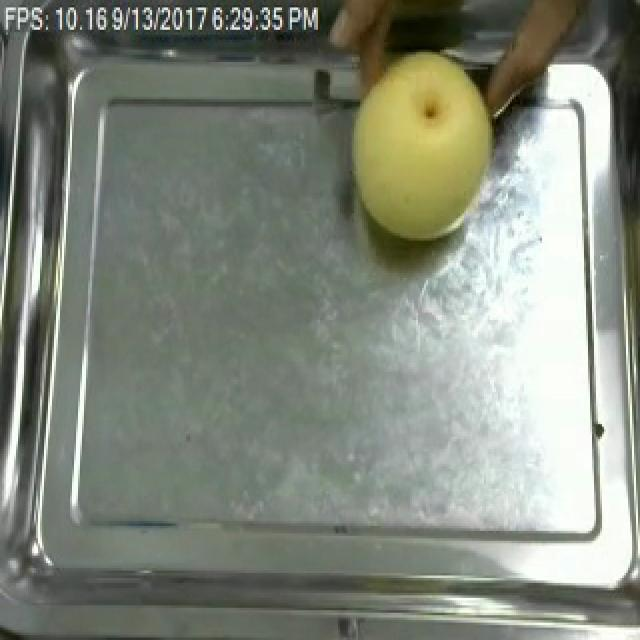Fruit: (326, 37, 512, 251)
